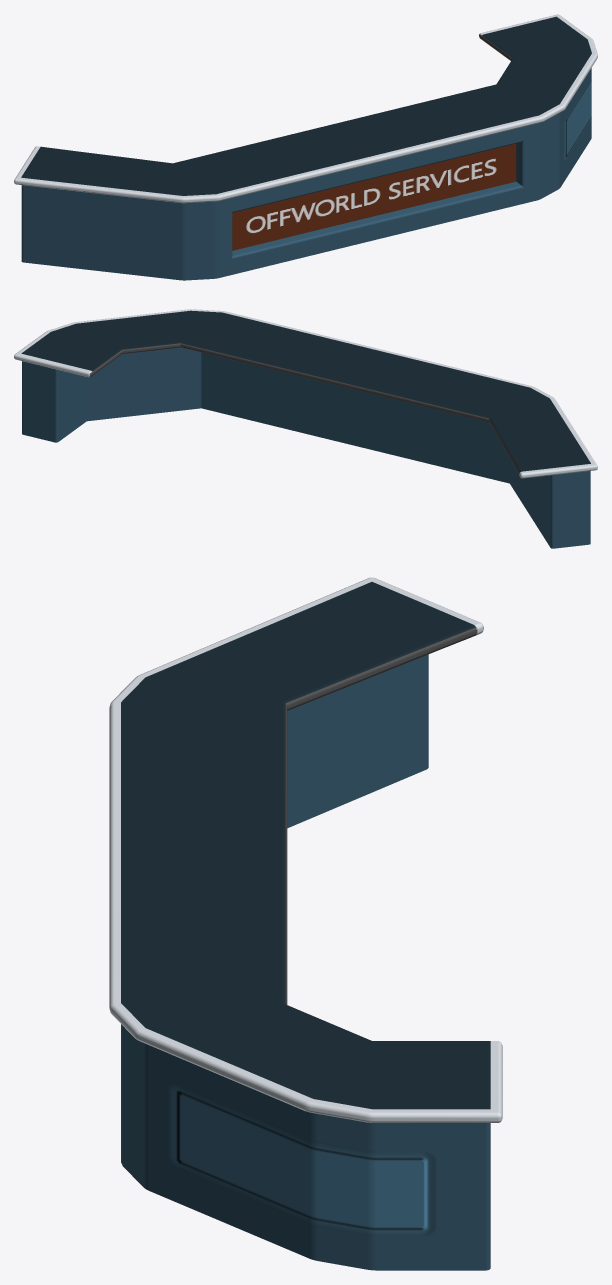
The model's file is SSCCounter1.fbx.
The picture shows the model from 3 angles, top to bottom: view 1: azimuth 30°, elevation 25°; view 2: azimuth 150°, elevation 25°; view 3: azimuth 270°, elevation 25°; orthographic projection. The views are drawn at different scales.
Visible parts, largest first — view 1: SSCCounter1; view 2: SSCCounter1; view 3: SSCCounter1.
Part boxes in pixels (x1,y1,x2,y2): SSCCounter1: [14, 14, 597, 280]; SSCCounter1: [14, 309, 597, 548]; SSCCounter1: [109, 577, 502, 1270].
Size of the model in its own units: 537 by 75 by 166.
